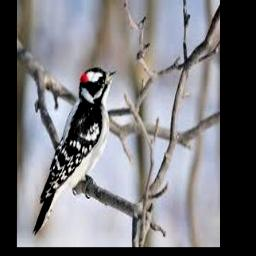Woodpecker: (33, 68, 118, 236)
